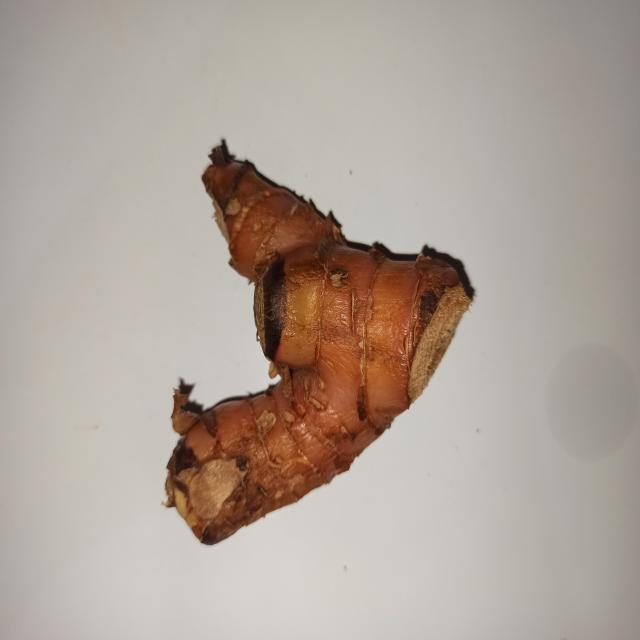ginger: (158, 151, 446, 518)
